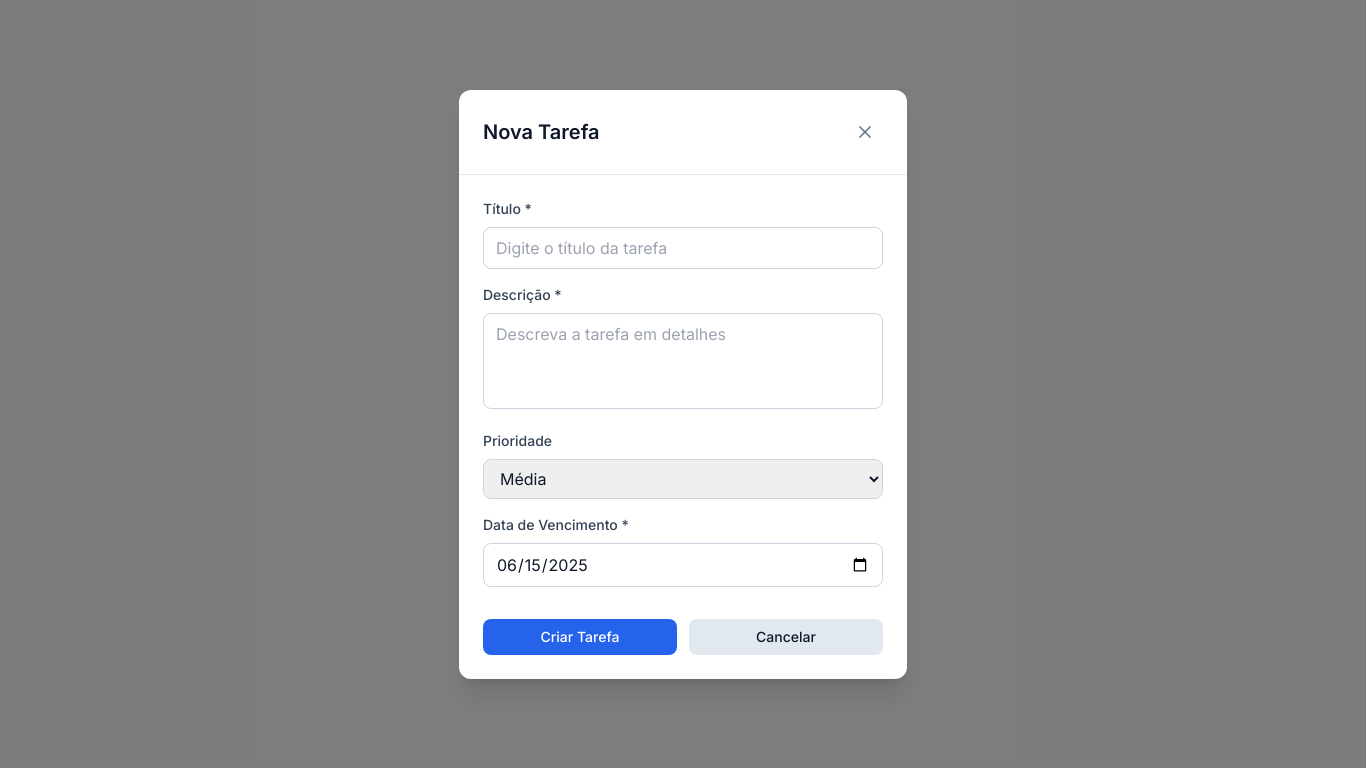
Test: TaskForm › shows validation errors for empty required fields
Click the button "Criar Tarefa". click: (580, 636)
box: [483,618,677,654]
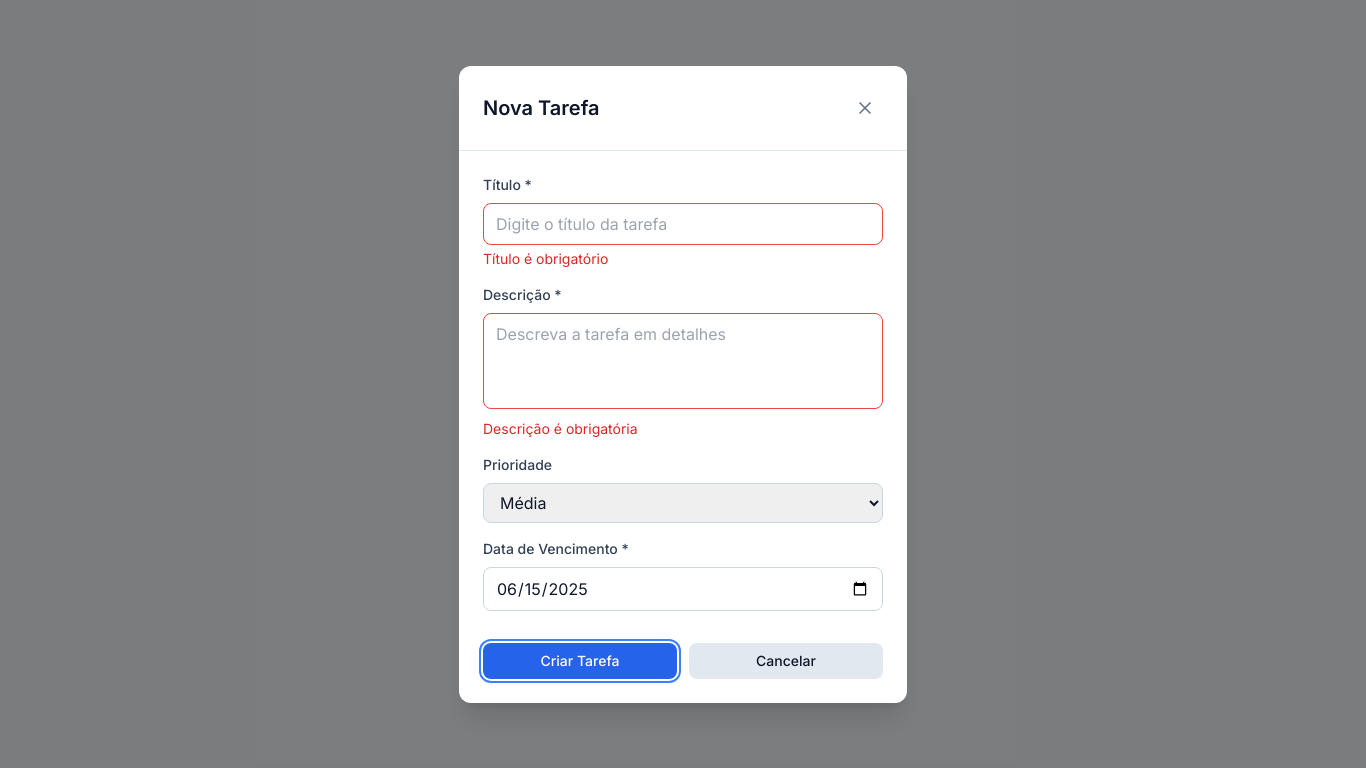
Now the text "Título é obrigatório" is shown, box [483,250,608,266]
Now the text "Descrição é obrigatória" is shown, box [483,420,638,436]
